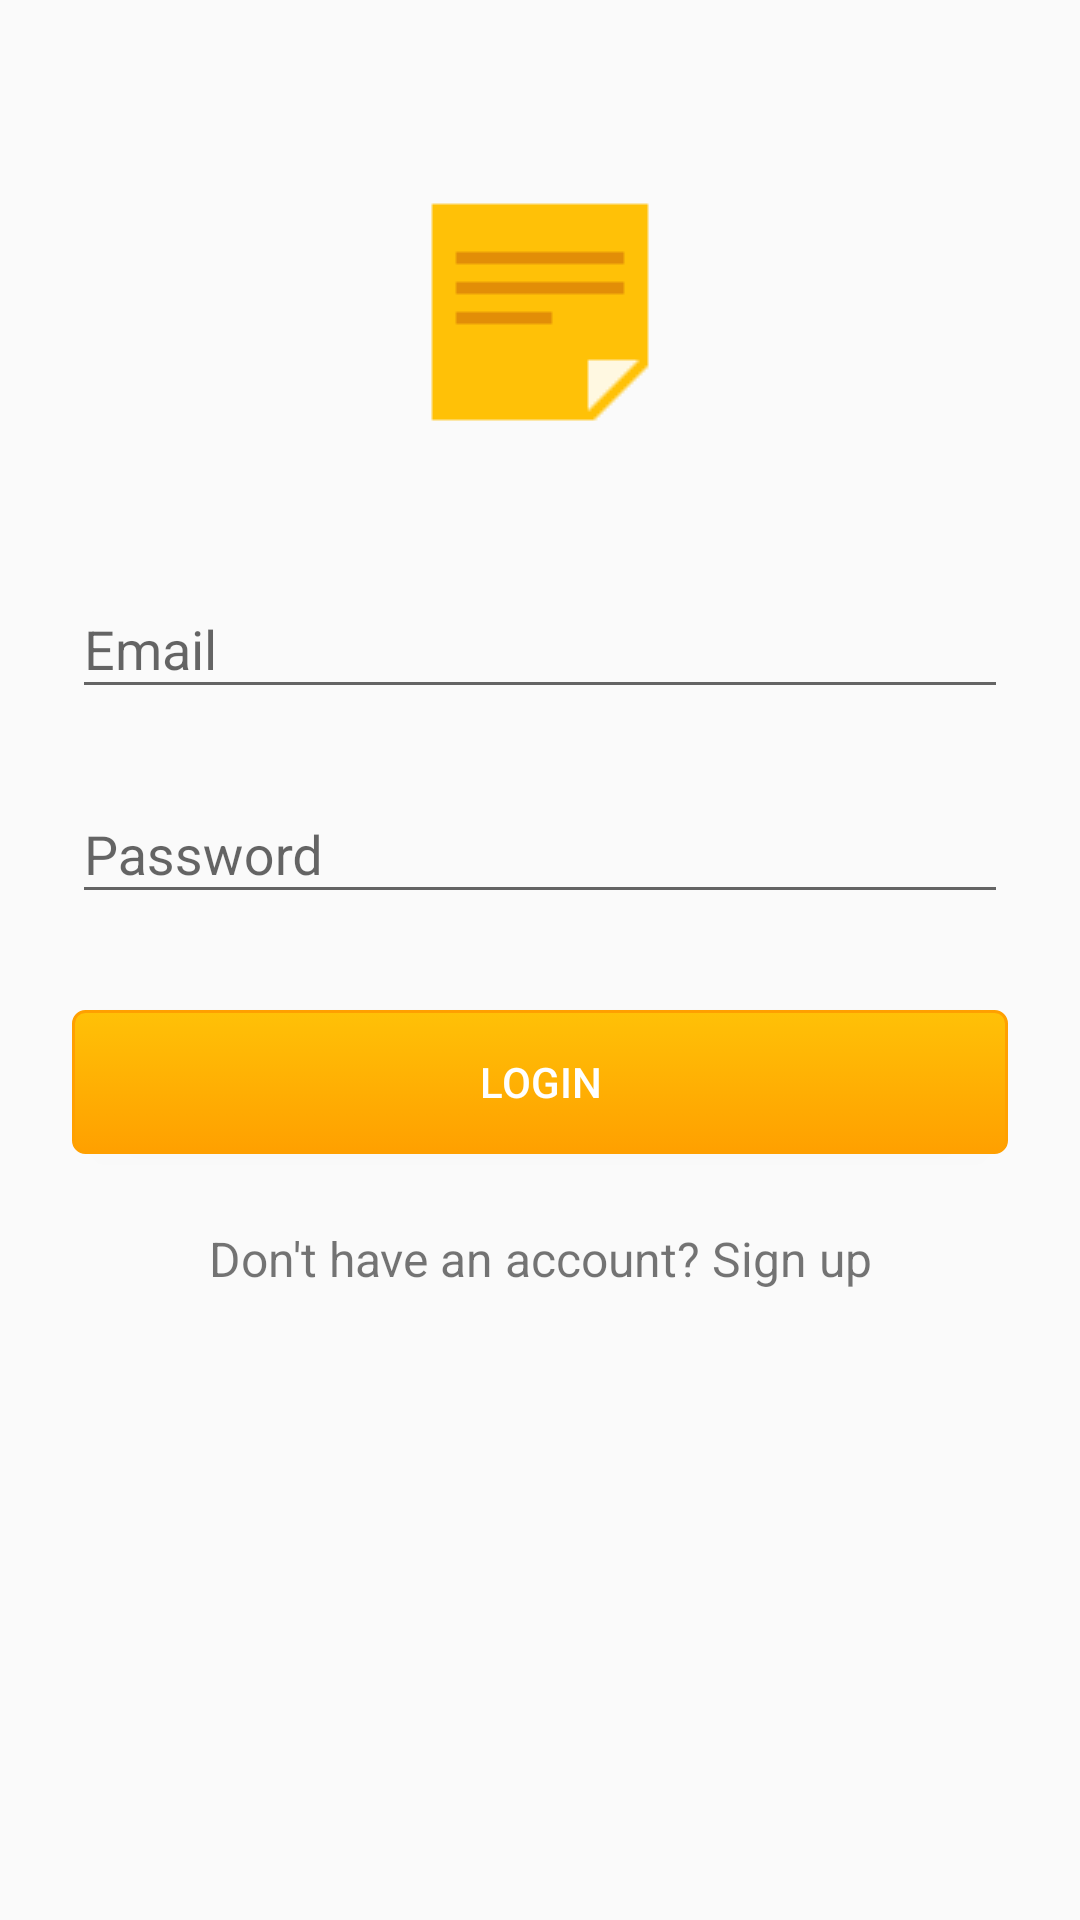

Where to tap for icons on this 1080w x 1920h app screen, as point (x, y):
Notepad: point (540, 312)
